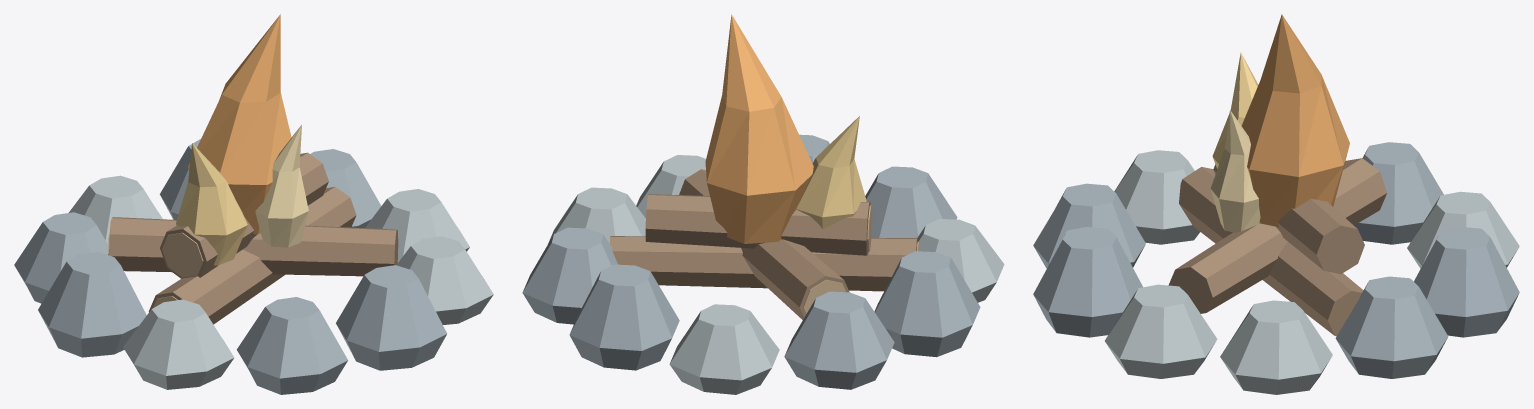
File: campfire.glb
3 views of the same model, side by side, from view 1: azimuth 30°, elevation 25°; view 2: azimuth 150°, elevation 25°; view 3: azimuth 270°, elevation 25° (orthographic). The views are drawn at different scales.
Visible parts, largest first — view 1: campfire_large_flame, campfire_log.001, campfire_ring_stone.008, campfire_ring_stone.005, campfire_ring_stone.007, campfire_ring_stone.006, campfire_log, campfire_ring_stone.009, campfire_small_flame, campfire_ring_stone.004, campfire_bright_core, campfire_ring_stone (+5 smaller); view 2: campfire_large_flame, campfire_ring_stone.002, campfire_log, campfire_ring_stone.005, campfire_ring_stone.004, campfire_ring_stone.003, campfire_log.002, campfire_ring_stone.001, campfire_ring_stone.007, campfire_log.001, campfire_small_flame, campfire_ring_stone.006 (+4 smaller); view 3: campfire_large_flame, campfire_ring_stone.008, campfire_ring_stone.001, campfire_log.001, campfire_ring_stone.002, campfire_ring_stone.009, campfire_ring_stone, campfire_log, campfire_ring_stone.004, campfire_ring_stone.006, campfire_ring_stone.007, campfire_log.002 (+3 smaller).
Part boxes in pixels (x1,y1,x2,y2): campfire_large_flame: (188, 14, 291, 234); campfire_log.001: (109, 217, 398, 276); campfire_ring_stone.008: (336, 265, 447, 370); campfire_ring_stone.005: (38, 252, 146, 357); campfire_ring_stone.007: (236, 297, 348, 394); campfire_ring_stone.006: (123, 299, 234, 389); campfire_log: (148, 187, 356, 324); campfire_ring_stone.009: (396, 236, 493, 324); campfire_small_flame: (176, 143, 247, 265); campfire_ring_stone.004: (14, 212, 108, 303); campfire_bright_core: (255, 124, 308, 247); campfire_ring_stone: (365, 189, 469, 262); campfire_large_flame: (705, 14, 813, 243); campfire_ring_stone.002: (569, 264, 679, 370); campfire_log: (609, 236, 917, 291); campfire_ring_stone.005: (874, 251, 980, 357); campfire_ring_stone.004: (784, 291, 894, 389); campfire_ring_stone.003: (669, 304, 779, 394); campfire_log.002: (645, 194, 870, 255); campfire_ring_stone.001: (522, 227, 617, 324); campfire_ring_stone.007: (865, 166, 957, 237); campfire_log.001: (679, 169, 849, 319); campfire_small_flame: (796, 116, 866, 228); campfire_ring_stone.006: (917, 218, 1004, 302); campfire_large_flame: (1241, 14, 1349, 227); campfire_ring_stone.008: (1033, 227, 1142, 337); campfire_ring_stone.001: (1335, 276, 1448, 378); campfire_log.001: (1168, 158, 1386, 313); campfire_ring_stone.002: (1414, 227, 1519, 337); campfire_ring_stone.009: (1105, 284, 1217, 378); campfire_ring_stone: (1220, 300, 1332, 394); campfire_log: (1179, 167, 1363, 336); campfire_ring_stone.004: (1354, 142, 1443, 244); campfire_ring_stone.006: (1114, 150, 1199, 244); campfire_ring_stone.007: (1033, 183, 1145, 268); campfire_log.002: (1213, 164, 1364, 274).
Bounding box in the file's own units: 1.42 × 0.91 × 1.36.
